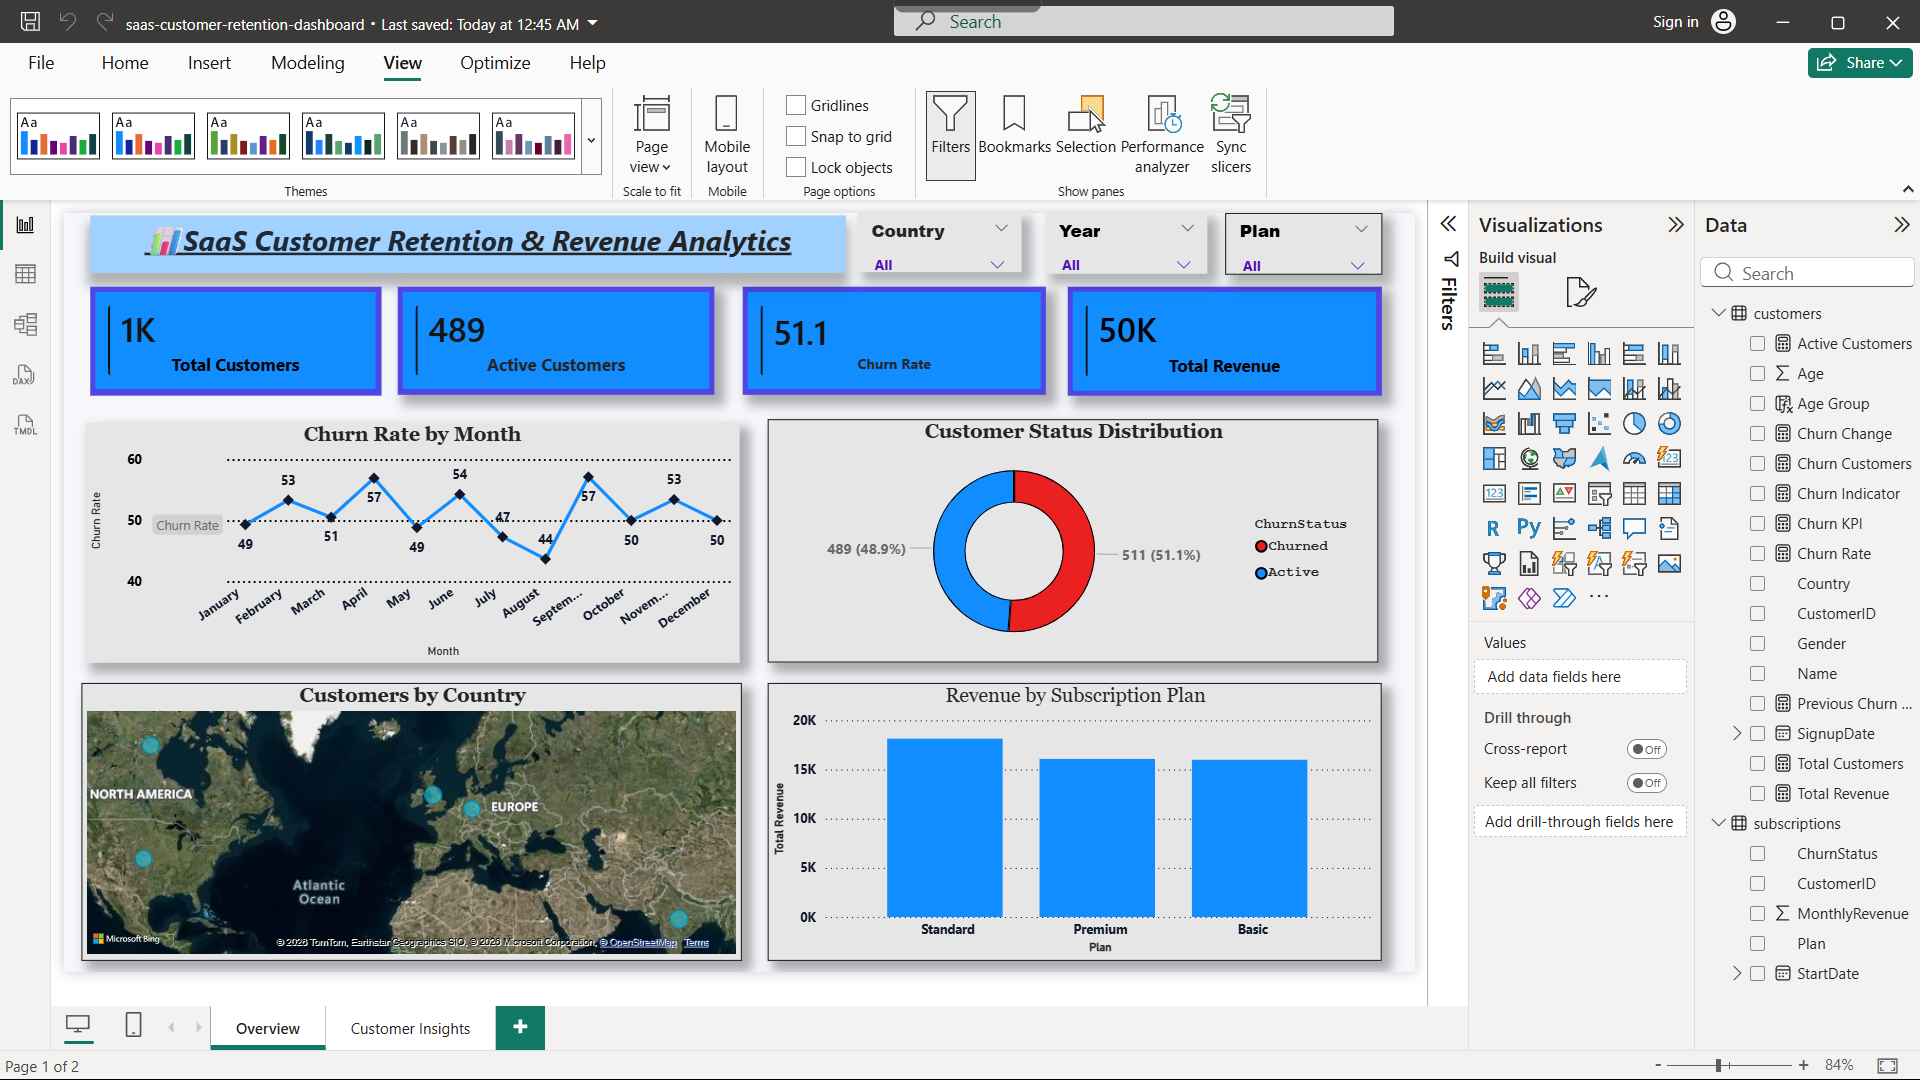

The page's visual inventory and layout, read from the dashboard file:
{"tool":"powerbi","page":{"name":"Overview","canvas":[1280,720],"ordinal":0},"visuals":[{"type":"lineChart","title":"Churn Rate by Month","fields":{"Y":["customers.Churn Rate"],"Category":["subscriptions.StartDate.Variation.Date Hierarchy.Month"]},"box":[20,198.6,620,227.1],"z":0},{"type":"map","title":"Customers by Country","fields":{"Category":["customers.Country"],"Size":["customers.Total Customers"]},"box":[17.1,445.7,625.7,262.9],"z":1000},{"type":"cardVisual","fields":{"Data":["customers.Total Revenue"]},"box":[951,69.9,297.3,103],"z":2000},{"type":"cardVisual","fields":{"Data":["customers.Churn Rate"]},"box":[642.5,70,287.5,102.5],"z":3000},{"type":"slicer","fields":{"Values":["subscriptions.Plan"]},"box":[1100,0,148.8,58.8],"z":4000},{"type":"clusteredColumnChart","title":"Revenue by Subscription Plan","fields":{"Y":["customers.Total Revenue"],"Category":["subscriptions.Plan"]},"box":[666.8,445.3,581.5,262.9],"z":5000},{"type":"textbox","box":[24.8,2.5,715.8,54.5],"z":6000},{"type":"donutChart","title":"Customer Status Distribution","fields":{"Category":["subscriptions.ChurnStatus"],"Y":["CountNonNull(customers.CustomerID)"]},"box":[667.1,195.7,578.6,230],"z":7000},{"type":"cardVisual","fields":{"Data":["customers.Active Customers"]},"box":[316.2,70,300,102.5],"z":8000},{"type":"slicer","fields":{"Values":["customers.Country"]},"box":[752.5,0,155,56.2],"z":10000},{"type":"slicer","fields":{"Values":["subscriptions.StartDate.Variation.Date Hierarchy.Year"]},"box":[930,0,153.8,57.5],"z":11000},{"type":"cardVisual","fields":{"Data":["customers.Total Customers"]},"box":[24.3,70,275.7,102.9],"z":11001}]}

Visuals, with their boxes on the page's 1280x720 design canvas (x1, y1, x2, y2). These are canvas units, not pixel positions in the 1920x1080 screenshot, which may show the page scaled, cropped or inside an application window:
"Churn Rate by Month" lineChart: pyautogui.locateOnScreen(20, 199, 640, 426)
"Customers by Country" map: pyautogui.locateOnScreen(17, 446, 643, 709)
cardVisual - customers.Total Revenue: pyautogui.locateOnScreen(951, 70, 1248, 173)
cardVisual - customers.Churn Rate: pyautogui.locateOnScreen(642, 70, 930, 172)
slicer - subscriptions.Plan: pyautogui.locateOnScreen(1100, 0, 1249, 59)
"Revenue by Subscription Plan" clusteredColumnChart: pyautogui.locateOnScreen(667, 445, 1248, 708)
textbox: pyautogui.locateOnScreen(25, 2, 741, 57)
"Customer Status Distribution" donutChart: pyautogui.locateOnScreen(667, 196, 1246, 426)
cardVisual - customers.Active Customers: pyautogui.locateOnScreen(316, 70, 616, 172)
slicer - customers.Country: pyautogui.locateOnScreen(752, 0, 908, 56)
slicer - subscriptions.StartDate.Variation.Date Hierarchy.Year: pyautogui.locateOnScreen(930, 0, 1084, 58)
cardVisual - customers.Total Customers: pyautogui.locateOnScreen(24, 70, 300, 173)
